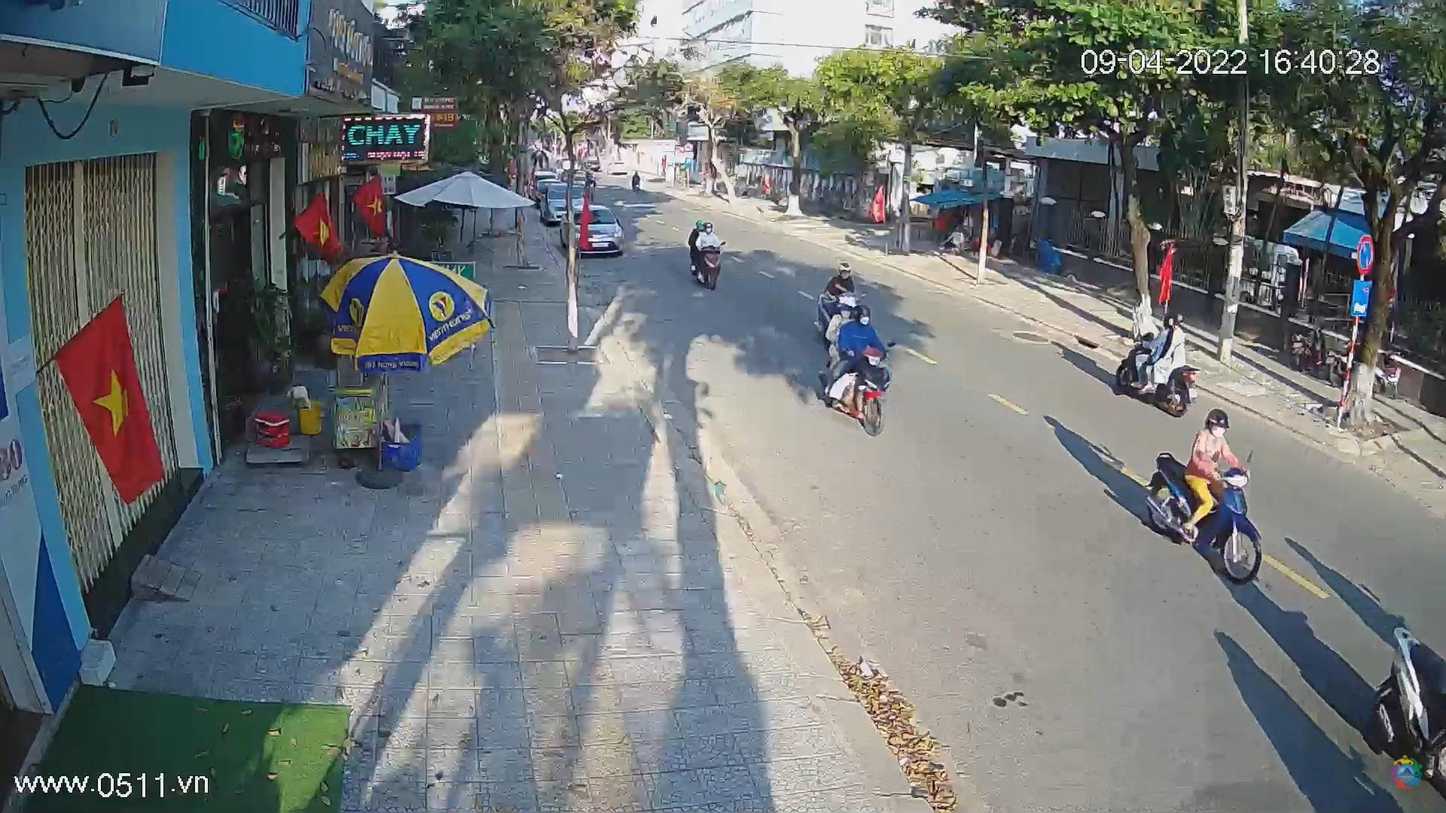car: (577, 224, 626, 258)
motorbike: (1134, 406, 1277, 585), (810, 290, 895, 442), (1109, 304, 1200, 422), (689, 245, 724, 291)
